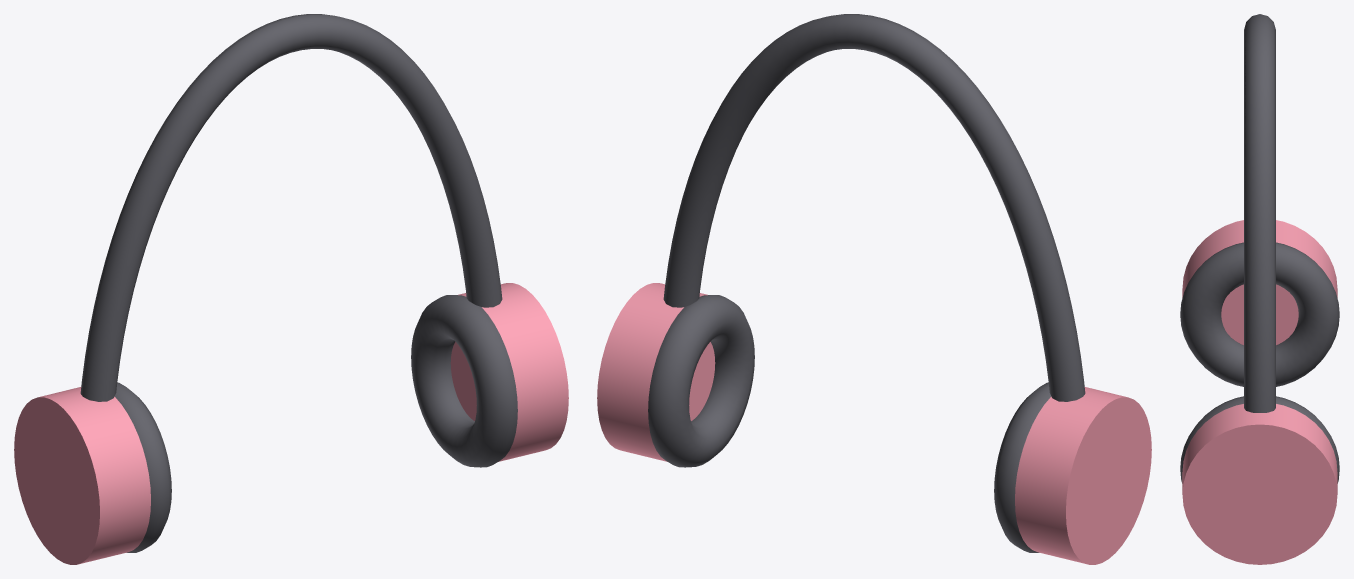
The model's file is headphones.glb.
3 renders of one model, left to right at view 1: azimuth 30°, elevation 25°; view 2: azimuth 150°, elevation 25°; view 3: azimuth 270°, elevation 25°, orthographic. The views are drawn at different scales.
Bounding box in the file's own units: 21.4 × 21.19 × 7.
